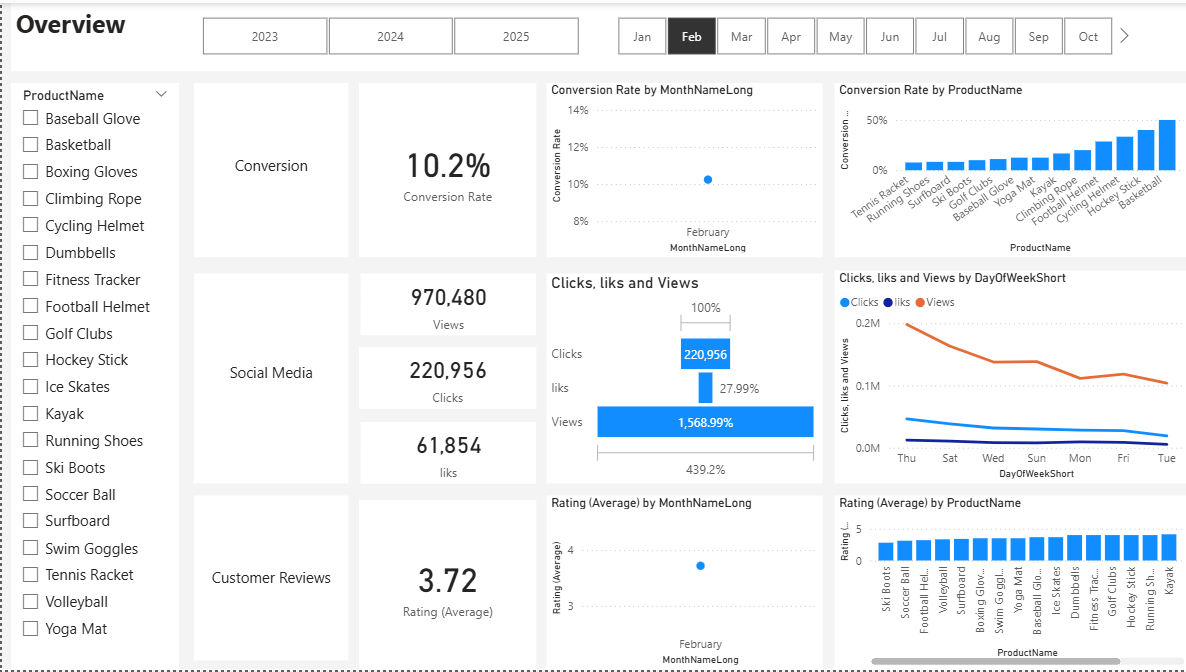

What the dashboard file says about the page in this screenshot:
{"tool":"powerbi","page":{"name":"Overview","canvas":[1280,720],"ordinal":0},"visuals":[{"type":"textbox","box":[9.7,0,1271.1,74.5],"z":0},{"type":"slicer","fields":{"Values":["dim_products.ProductName"]},"box":[9.7,87.4,181.4,633.1],"z":1000},{"type":"textbox","box":[207.3,87.4,166.8,187.8],"z":2000},{"type":"textbox","box":[207.3,532.7,166.8,178.1],"z":3000},{"type":"textbox","box":[207.3,293.1,166.8,226.7],"z":4000},{"type":"card","fields":{"Values":["_Calculations.Conversion Rate"]},"box":[385.4,87.4,191.1,187.8],"z":5000},{"type":"card","fields":{"Values":["_Calculations.Views"]},"box":[387,293.1,189.4,66.4],"z":6000},{"type":"card","fields":{"Values":["_Calculations.Clicks"]},"box":[385.4,372.4,191.1,66.4],"z":7000},{"type":"card","fields":{"Values":["_Calculations.liks"]},"box":[387,453.4,189.4,66.4],"z":8000},{"type":"card","fields":{"Values":["_Calculations.Rating (Average)"]},"box":[385.4,537.6,191.1,183],"z":9000},{"type":"slicer","fields":{"Values":["Calendar.Year"]},"box":[191.1,9.7,455,53.4],"z":10000},{"type":"slicer","fields":{"Values":["Calendar.MonthNameShort"]},"box":[639.6,9.7,582.9,53.4],"z":11000},{"type":"lineChart","fields":{"Category":["Calendar.MonthNameLong"],"Y":["_Calculations.Conversion Rate"]},"box":[587.8,87.4,297.9,187.8],"z":12000},{"type":"clusteredColumnChart","fields":{"Category":["dim_products.ProductName"],"Y":["_Calculations.Conversion Rate"]},"box":[898.7,87.4,382.1,187.8],"z":13000},{"type":"lineChart","fields":{"Category":["Calendar.DayOfWeekShort"],"Y":["_Calculations.Clicks","_Calculations.liks","_Calculations.Views"]},"box":[898.7,289.8,382.1,229.9],"z":14000},{"type":"funnel","fields":{"Y":["_Calculations.Clicks","_Calculations.liks","_Calculations.Views"]},"box":[587.8,293.1,297.9,226.7],"z":15000},{"type":"lineChart","fields":{"Category":["Calendar.MonthNameLong"],"Y":["_Calculations.Rating (Average)"]},"box":[587.8,532.7,297.9,187.8],"z":16000},{"type":"clusteredColumnChart","fields":{"Y":["_Calculations.Rating (Average)"],"Category":["dim_products.ProductName"]},"box":[898.7,532.7,382.1,187.8],"z":17000}]}

Visuals, with their boxes in screenshot pixels (x1, y1, x2, y2), scaled from the page's 1280x720 canvas onto the 1186x672 screenshot:
textbox: bbox(9, 0, 1185, 70)
slicer - dim_products.ProductName: bbox(9, 82, 177, 671)
textbox: bbox(192, 82, 347, 257)
textbox: bbox(192, 497, 347, 663)
textbox: bbox(192, 274, 347, 485)
card - _Calculations.Conversion Rate: bbox(357, 82, 534, 257)
card - _Calculations.Views: bbox(359, 274, 534, 336)
card - _Calculations.Clicks: bbox(357, 348, 534, 410)
card - _Calculations.liks: bbox(359, 423, 534, 485)
card - _Calculations.Rating (Average): bbox(357, 502, 534, 671)
slicer - Calendar.Year: bbox(177, 9, 599, 59)
slicer - Calendar.MonthNameShort: bbox(593, 9, 1133, 59)
lineChart - Calendar.MonthNameLong x _Calculations.Conversion Rate: bbox(545, 82, 821, 257)
clusteredColumnChart - dim_products.ProductName x _Calculations.Conversion Rate: bbox(833, 82, 1185, 257)
lineChart - Calendar.DayOfWeekShort x _Calculations.Clicks: bbox(833, 270, 1185, 485)
funnel - _Calculations.Clicks x _Calculations.liks: bbox(545, 274, 821, 485)
lineChart - Calendar.MonthNameLong x _Calculations.Rating (Average): bbox(545, 497, 821, 671)
clusteredColumnChart - _Calculations.Rating (Average) x dim_products.ProductName: bbox(833, 497, 1185, 671)
